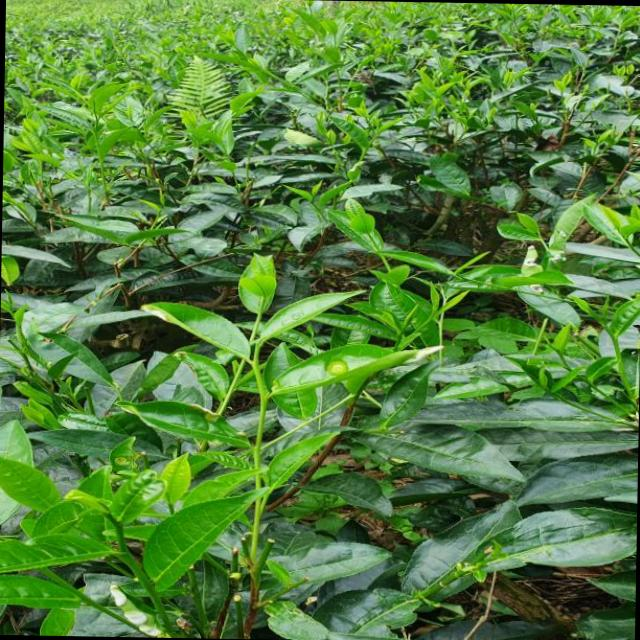Stem: (251, 362, 260, 373), (603, 325, 609, 331)
